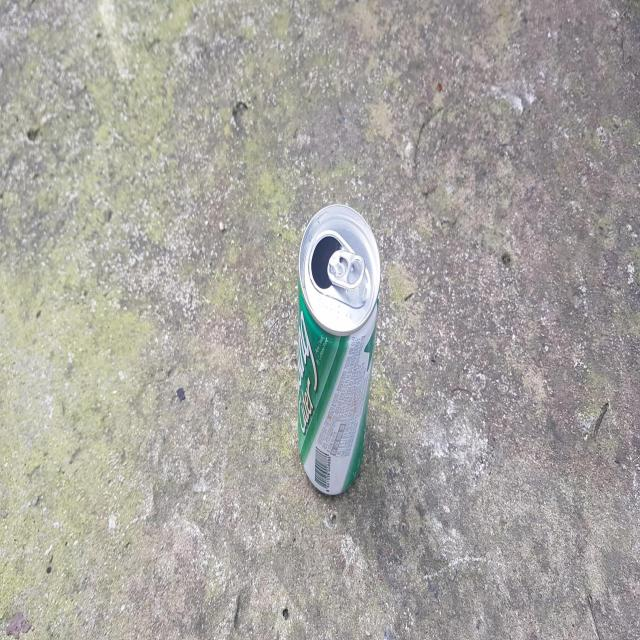can: (298, 203, 381, 495)
